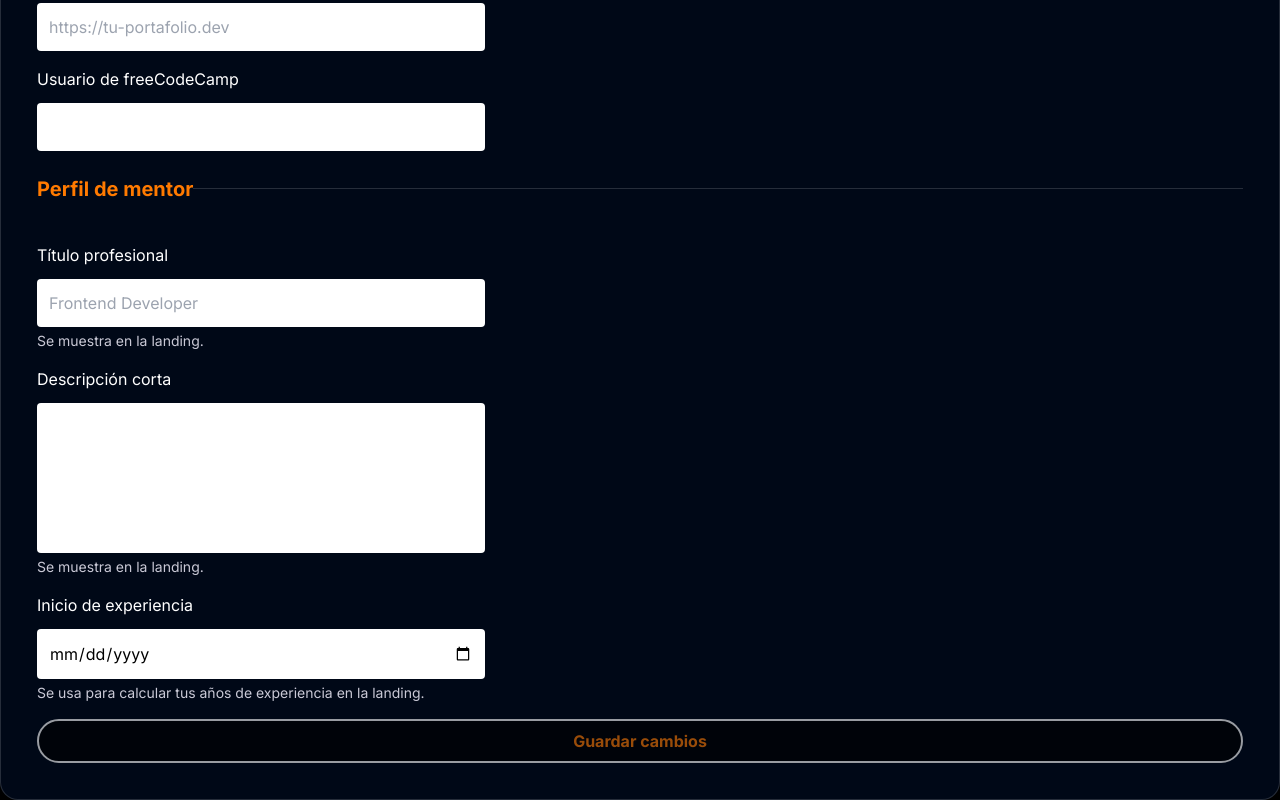
Test: ProfileForm › shows the backend future-date error under the experience start date without a toast
This screenshot has width=1280, height=800.
(page scrolled)
Type "2019-03-15" into the date field labelled "Inicio de experiencia".
click(261, 654); type("2019-03-15")  # box [37,628,485,678]
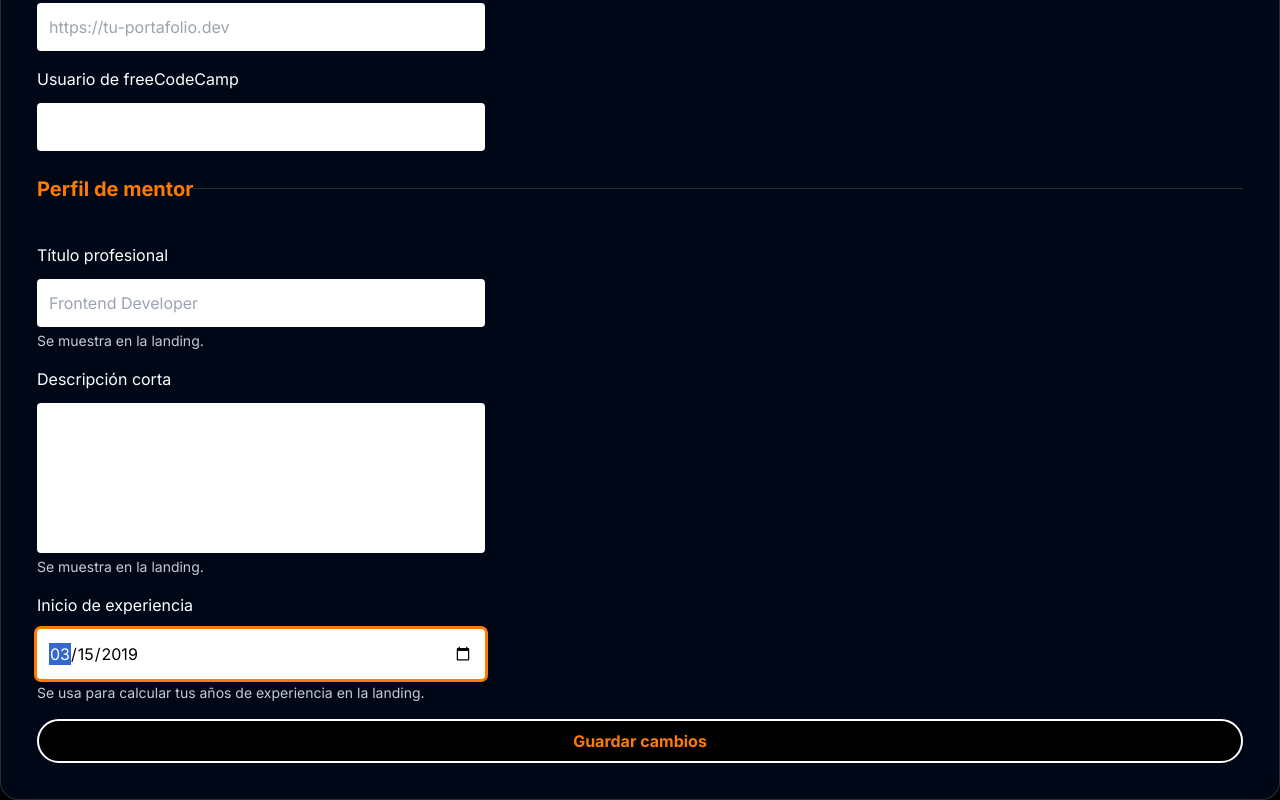
Click the button "Guardar cambios".
click(640, 740)  # box [37,718,1243,762]
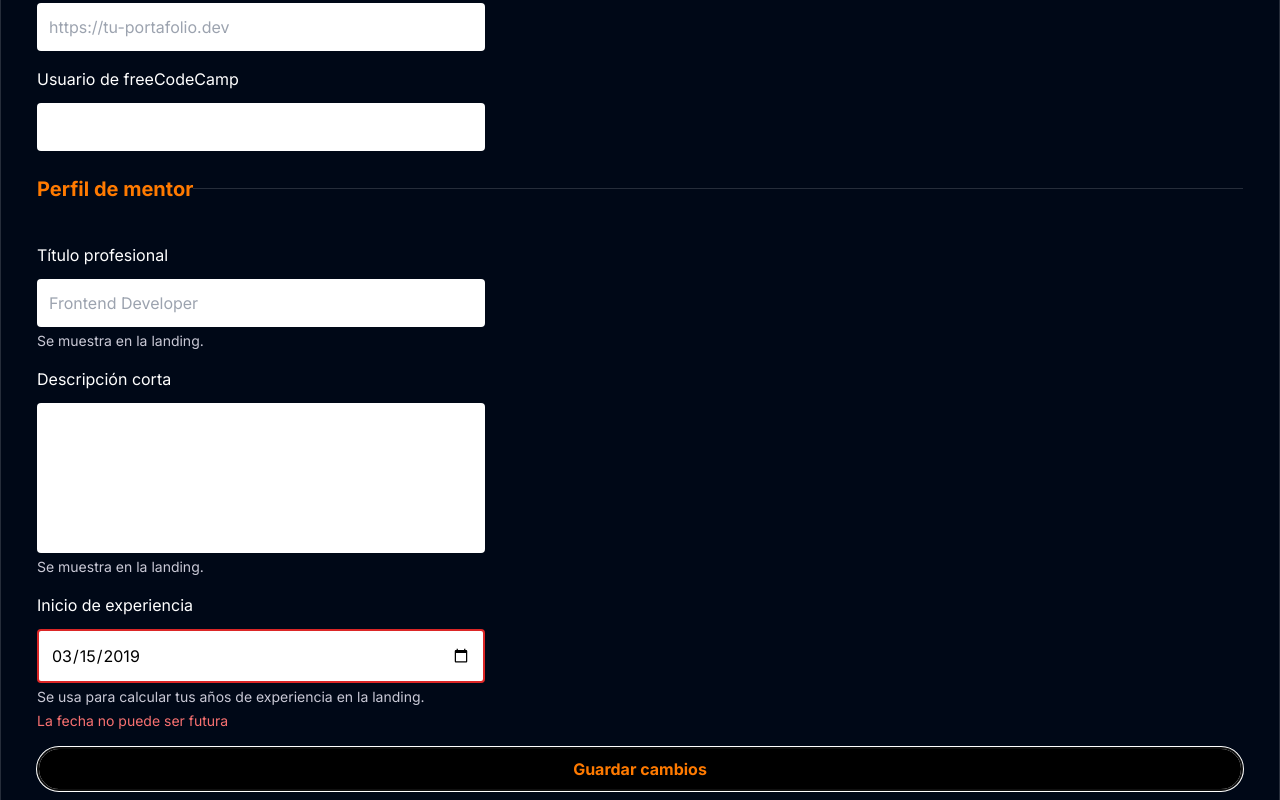
Now the text "La fecha no puede ser futura" is shown, box [37,712,228,728]
